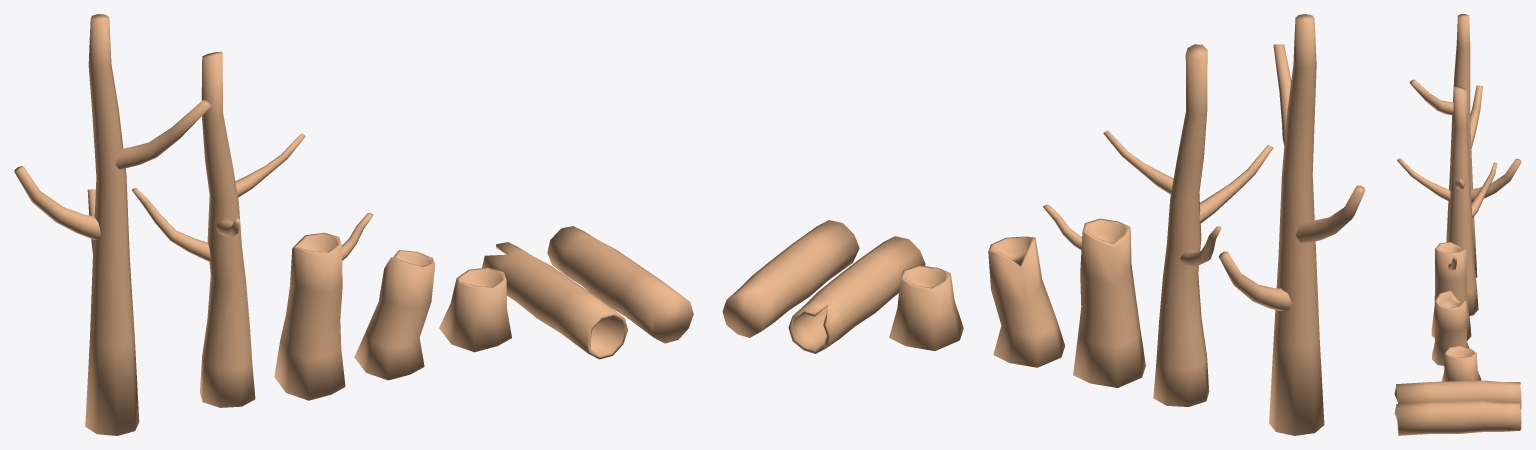
The model's file is Trunk.fbx.
The picture shows the model from 3 angles, left to right: view 1: azimuth 30°, elevation 25°; view 2: azimuth 150°, elevation 25°; view 3: azimuth 270°, elevation 25°; orthographic projection. The views are drawn at different scales.
Parts seen in each view (by area): view 1: Trunk 6, Trunk 2, Trunk 3, Trunk 7, Trunk 1, Trunk 4, Trunk 5; view 2: Trunk 6, Trunk 2, Trunk 3, Trunk 7, Trunk 4, Trunk 1, Trunk 5; view 3: Trunk 2, Trunk 7, Trunk 6, Trunk 1, Trunk 3, Trunk 4, Trunk 5.
Boxes of the visible parts, <box> form: Trunk 6: <box>14,14,211,435</box>; Trunk 2: <box>132,51,305,407</box>; Trunk 3: <box>274,213,373,400</box>; Trunk 7: <box>547,226,693,343</box>; Trunk 1: <box>482,242,627,359</box>; Trunk 4: <box>354,250,435,380</box>; Trunk 5: <box>439,267,511,352</box>; Trunk 6: <box>1219,14,1365,435</box>; Trunk 2: <box>1103,44,1273,406</box>; Trunk 3: <box>1043,204,1145,387</box>; Trunk 7: <box>722,220,859,337</box>; Trunk 4: <box>988,236,1064,367</box>; Trunk 1: <box>788,236,925,353</box>; Trunk 5: <box>889,265,963,350</box>; Trunk 2: <box>1397,86,1497,315</box>; Trunk 7: <box>1394,400,1521,435</box>; Trunk 6: <box>1409,14,1521,277</box>; Trunk 1: <box>1394,380,1521,409</box>; Trunk 3: <box>1431,242,1471,340</box>; Trunk 4: <box>1432,290,1469,365</box>; Trunk 5: <box>1441,345,1481,381</box>.
Size of the model in its own units: 888 by 570 by 254.
